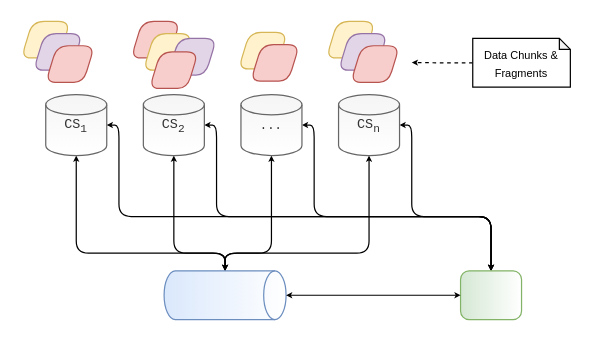
The diagram is 592 pixels wide and 342 high, and some of its shapes have lost their labels. Each missing label, with the box of its shape:
Client: (459, 270, 522, 320)
Controller: (163, 270, 286, 320)
